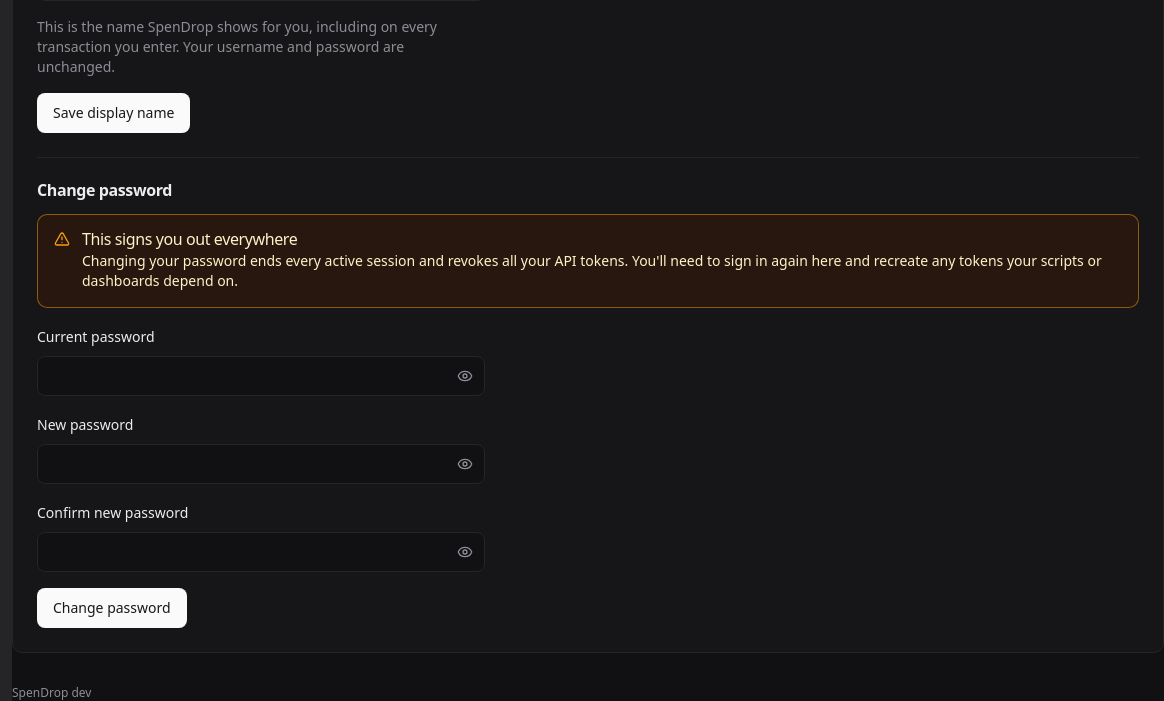
it: Account tab — change password › a 401 (by status, not message text) surfaces a current-password error
(page scrolled)
Type "wrongpass1" into the password field labelled "Current password" at (261, 376), box [37,356,485,396]
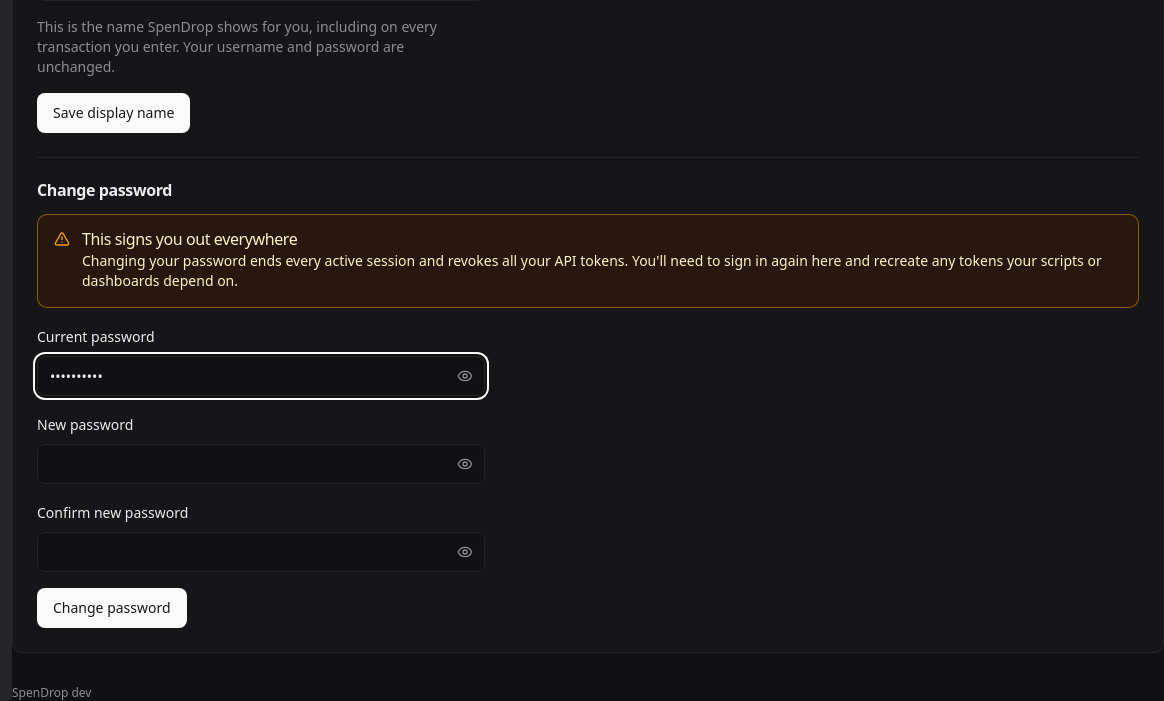
Type "newpass123" into the password field labelled "New password" at (261, 464), box [37,444,485,484]
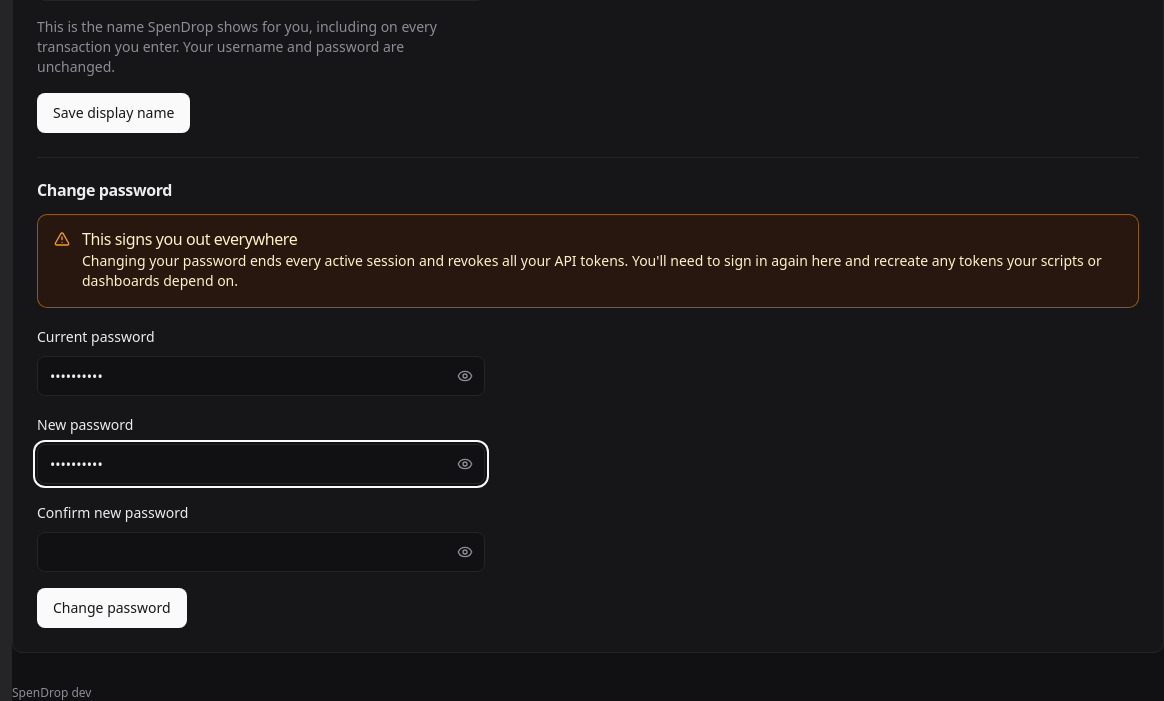
Type "newpass123" into the password field labelled "Confirm new password" at (261, 552), box [37,532,485,572]
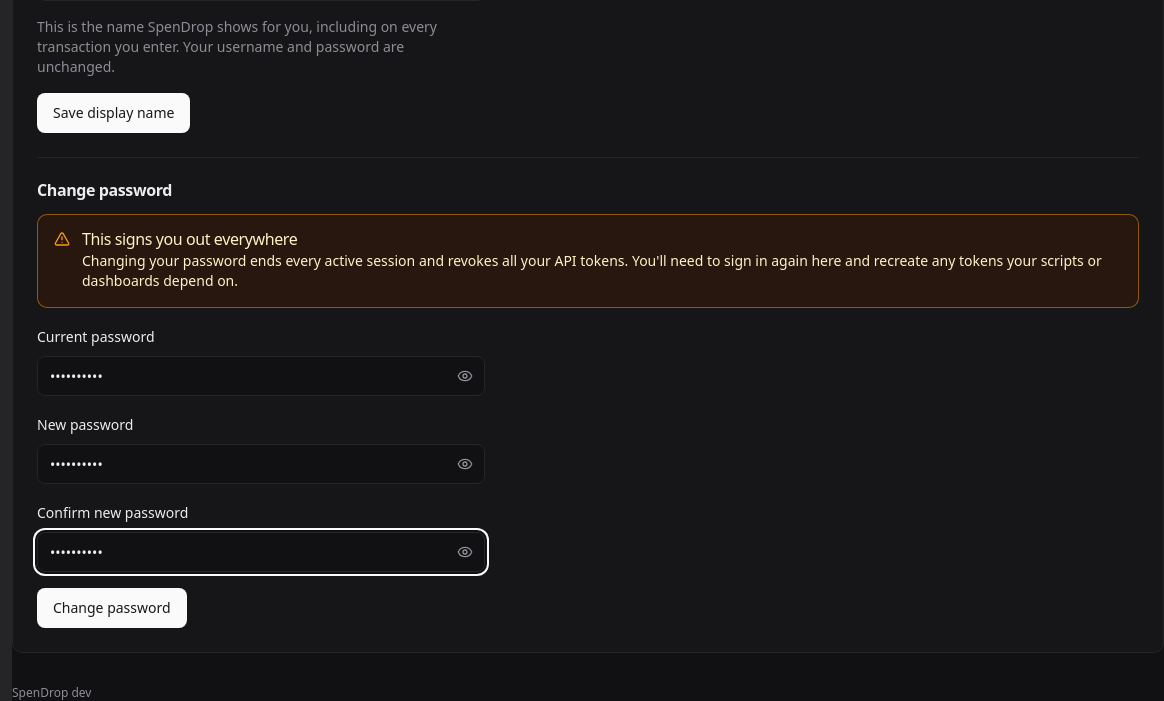
Click the button "Change password" at (112, 608), box [37,588,187,628]
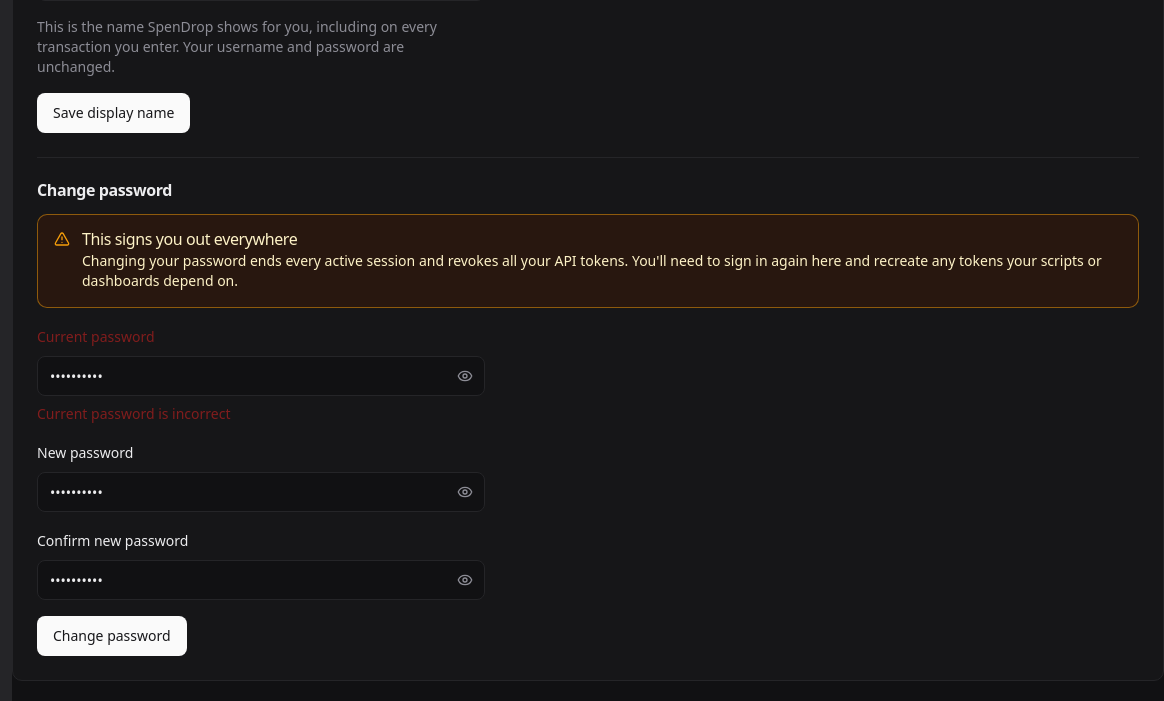
Now the text "Current password is incorrect" is shown, box [37,404,230,423]
